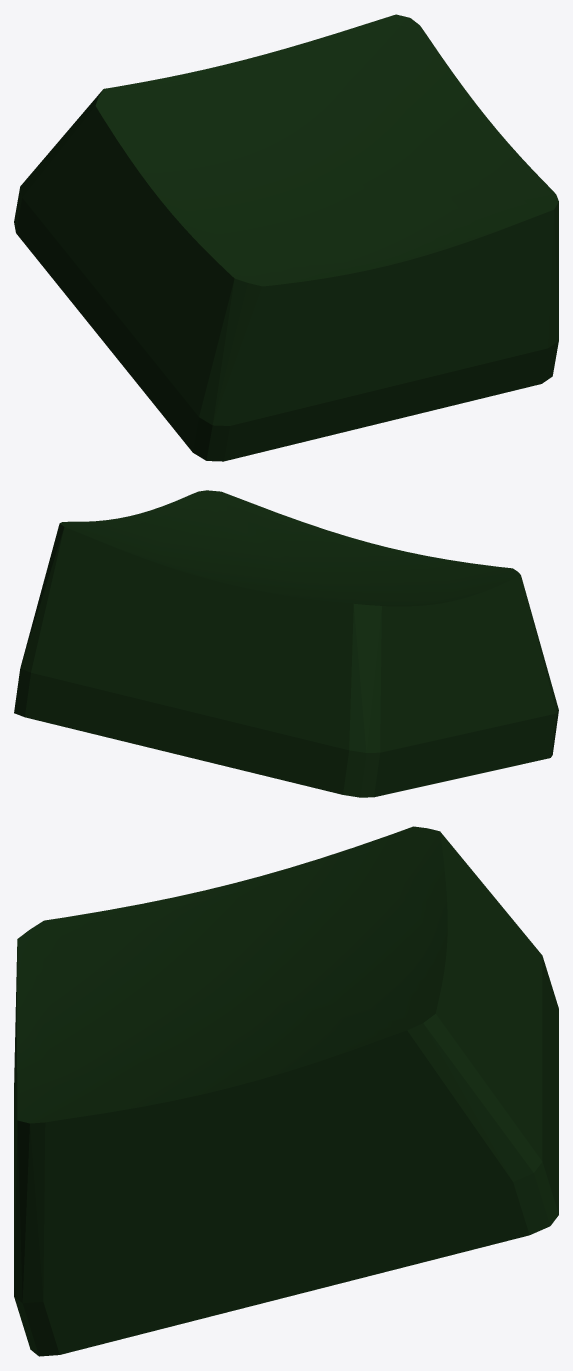
The model's file is original-9.obj.
3 views of the same model, one above another, from view 1: azimuth 30°, elevation 25°; view 2: azimuth 150°, elevation 25°; view 3: azimuth 270°, elevation 25° (orthographic). The views are drawn at different scales.
Visible parts, largest first — view 1: Group10/mesh22/mesh22-geometry#mesh22-geometry; view 2: Group10/mesh22/mesh22-geometry#mesh22-geometry; view 3: Group10/mesh22/mesh22-geometry#mesh22-geometry.
Boxes of the visible parts, left/top/right/bottom form: Group10/mesh22/mesh22-geometry#mesh22-geometry: left=14, top=14, right=558, bottom=461; Group10/mesh22/mesh22-geometry#mesh22-geometry: left=14, top=490, right=558, bottom=797; Group10/mesh22/mesh22-geometry#mesh22-geometry: left=14, top=826, right=558, bottom=1356.
Size of the model in its own units: 0.0793 by 0.0543 by 0.0787.
